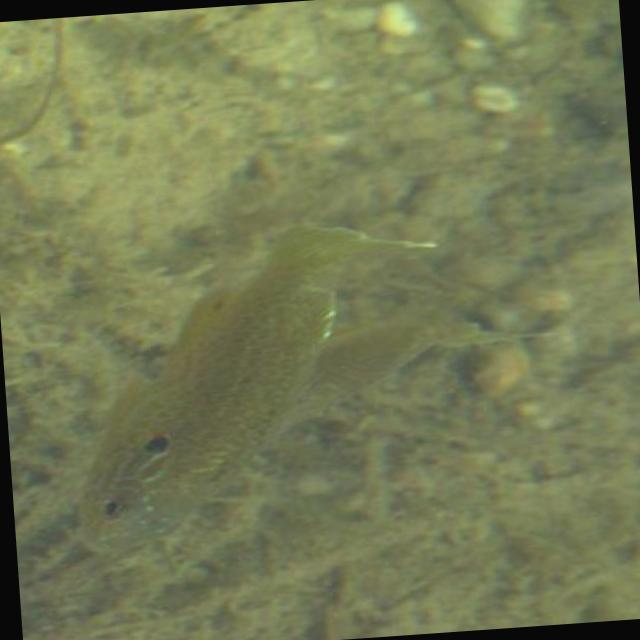Gunes Levregi: (36, 213, 460, 557)
